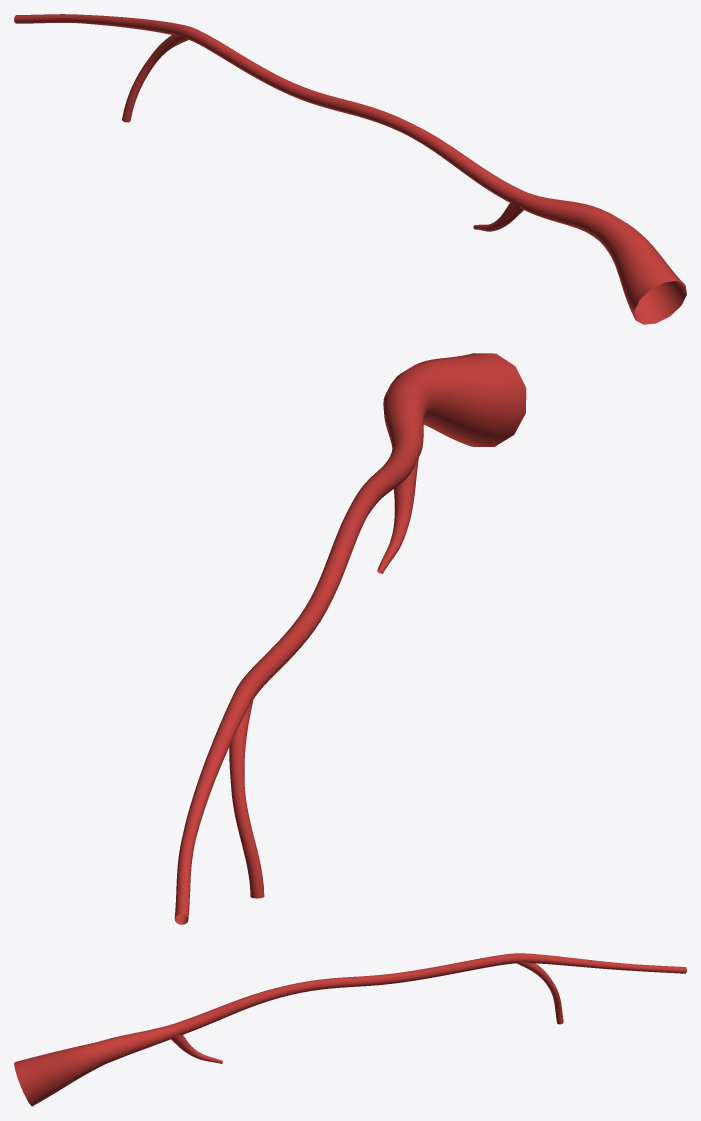
3 renders of one model, top to bottom at view 1: azimuth 30°, elevation 25°; view 2: azimuth 150°, elevation 25°; view 3: azimuth 270°, elevation 25°, orthographic. The views are drawn at different scales.
Visible parts, largest first — view 1: 左侧下牙槽动脉下颌舌骨肌支; view 2: 左侧下牙槽动脉下颌舌骨肌支; view 3: 左侧下牙槽动脉下颌舌骨肌支.
Part boxes in pixels (bbox=[...]): 左侧下牙槽动脉下颌舌骨肌支: bbox=[14, 14, 686, 324]; 左侧下牙槽动脉下颌舌骨肌支: bbox=[174, 353, 526, 924]; 左侧下牙槽动脉下颌舌骨肌支: bbox=[14, 953, 686, 1106].
Size of the model in its own units: 0.00998 by 0.00418 by 0.0286.
